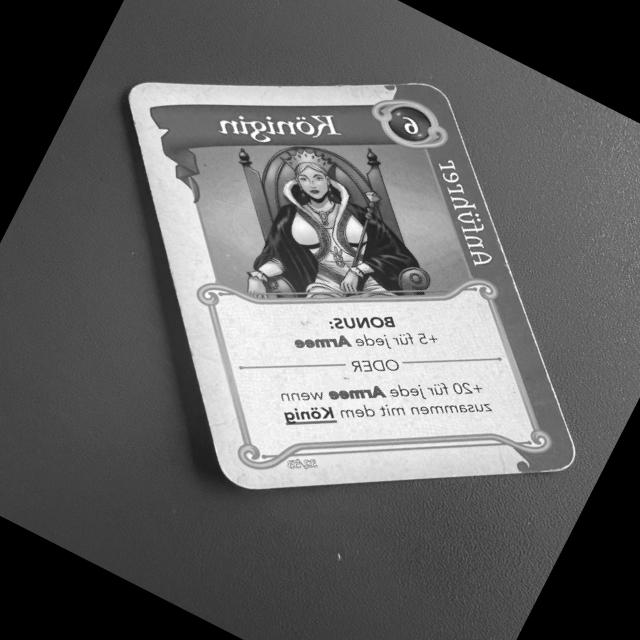Queen: (125, 87, 577, 492)
